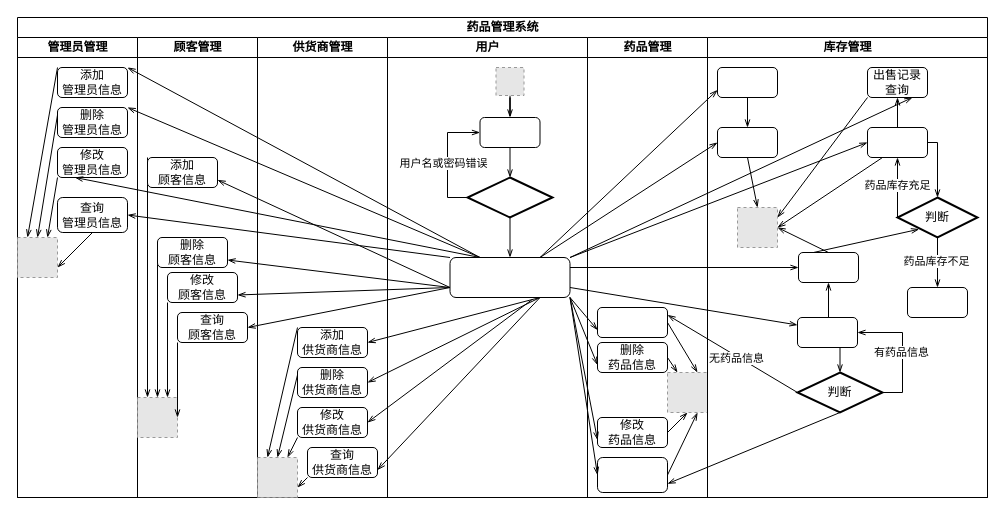
Image size: 1005x515. Some labels were removed from this diagram. Grey dashed boxes stand in for pictures. Each missing label, with the centre of its shape:
"库存盘点" goes at (x=828, y=267).
"提示药品库存不足" goes at (x=937, y=302).
"查询 药品信息" goes at (x=632, y=474).
"添加 药品信息" goes at (x=632, y=322).
"登录成功" goes at (x=509, y=277).
"登录验证" goes at (x=509, y=132).
"药品入库" goes at (x=827, y=332).
"药品出售" goes at (x=897, y=142).
"药品采购" goes at (x=747, y=82).
"采购记录查询" goes at (x=747, y=142).
